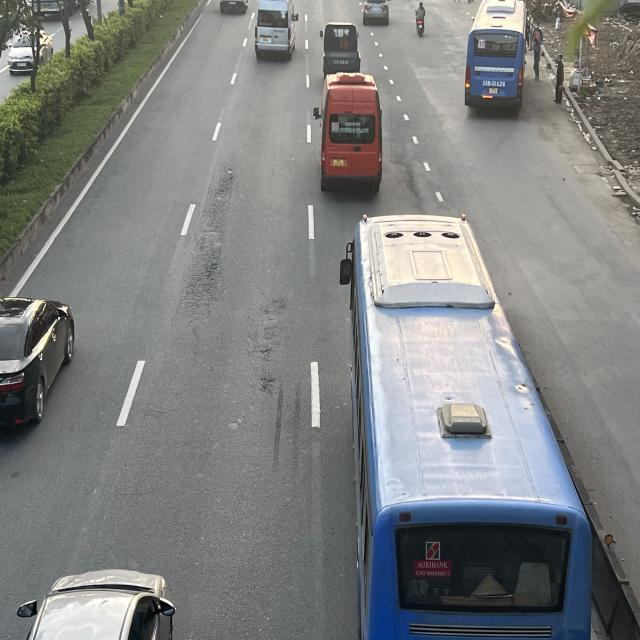car: (12, 569, 176, 640), (0, 296, 74, 430)
coach: (339, 215, 602, 640), (467, 0, 530, 108)
truck: (322, 18, 362, 73)
van: (313, 75, 384, 192), (254, 0, 299, 58)
